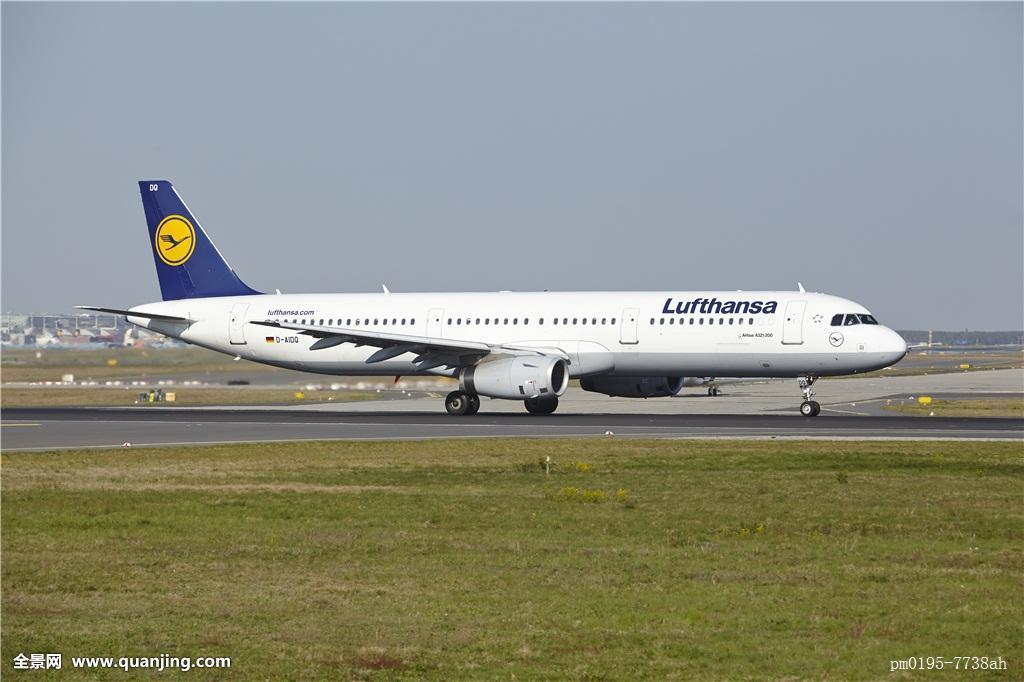airplane: (69, 178, 909, 439)
